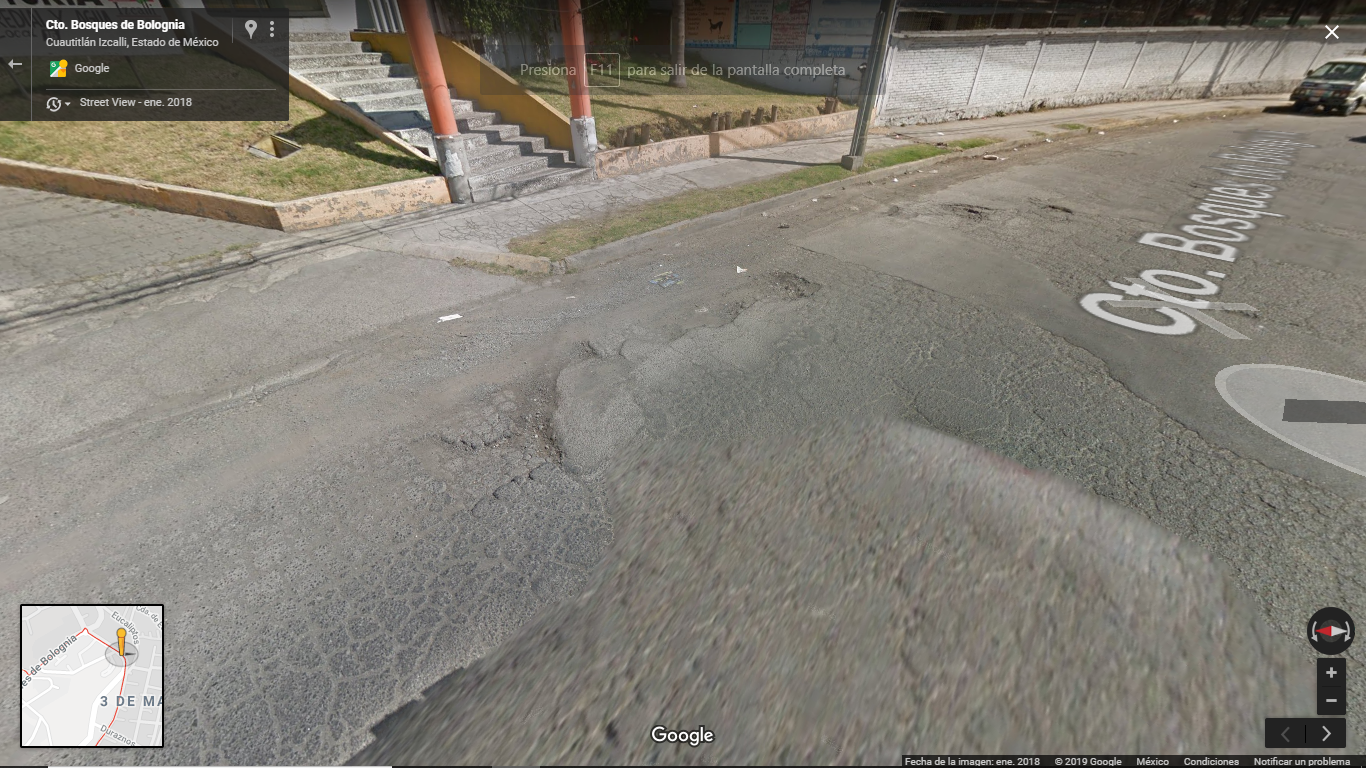pothole: (443, 331, 620, 494), (757, 254, 824, 308), (938, 200, 993, 234), (1033, 191, 1082, 220)
